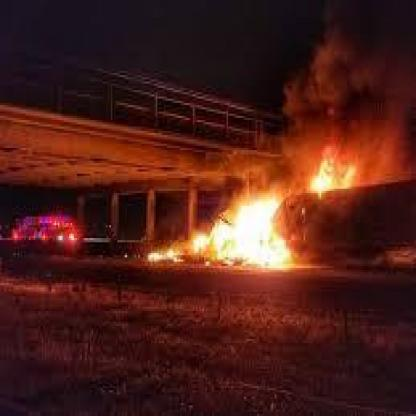fire: (137, 179, 300, 271), (304, 143, 359, 195)
other: (12, 214, 83, 246)
